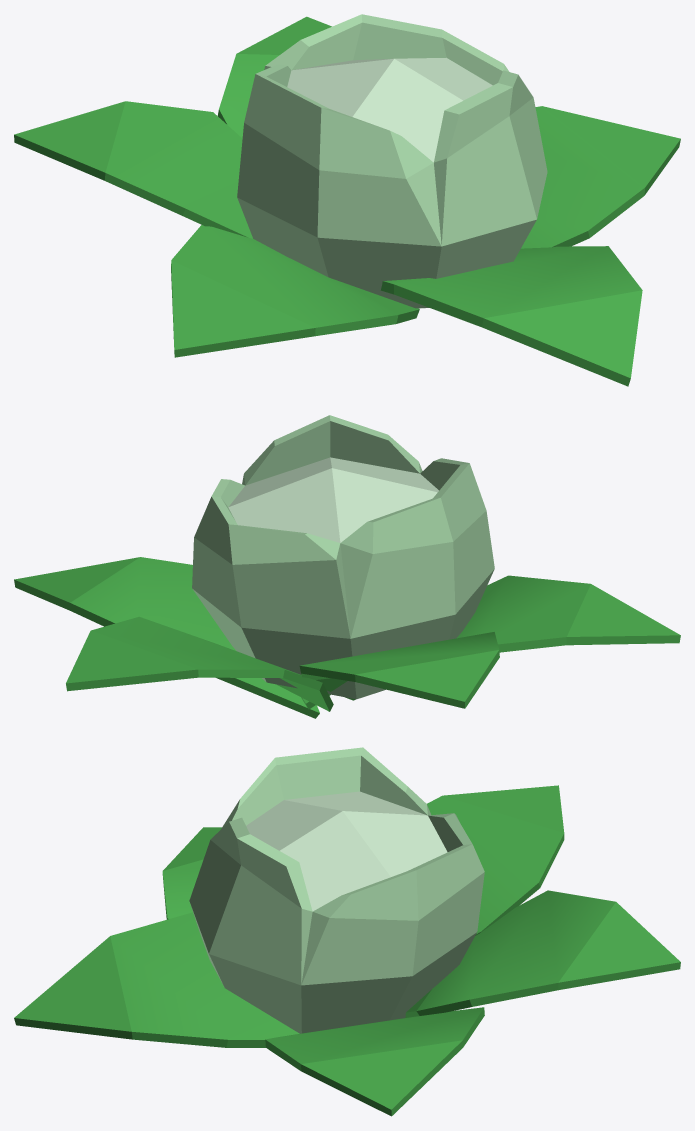
The model's file is plant_004.glb.
The picture shows the model from 3 angles, top to bottom: view 1: azimuth 30°, elevation 25°; view 2: azimuth 150°, elevation 25°; view 3: azimuth 270°, elevation 25°; orthographic projection. The views are drawn at different scales.
Parts seen in each view (by area): view 1: plant_004; view 2: plant_004; view 3: plant_004.
Boxes of the visible parts, box(x1,y1,x2,y2) form: plant_004: box(14, 14, 680, 386); plant_004: box(14, 415, 680, 718); plant_004: box(14, 747, 680, 1116).
Size of the model in its own units: 1.12 by 0.4695 by 1.17.
1 material, 1 textured.
